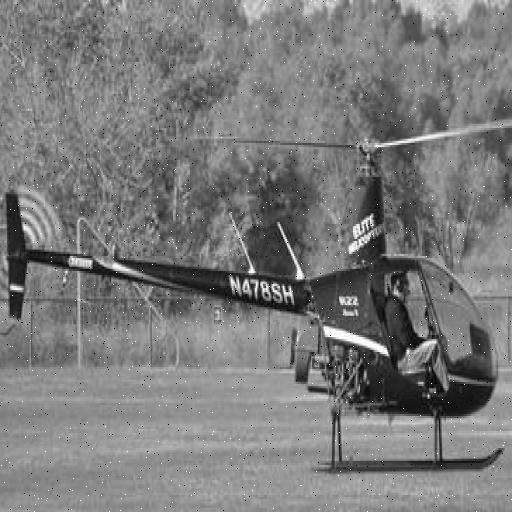helicopter: (1, 112, 512, 477)
